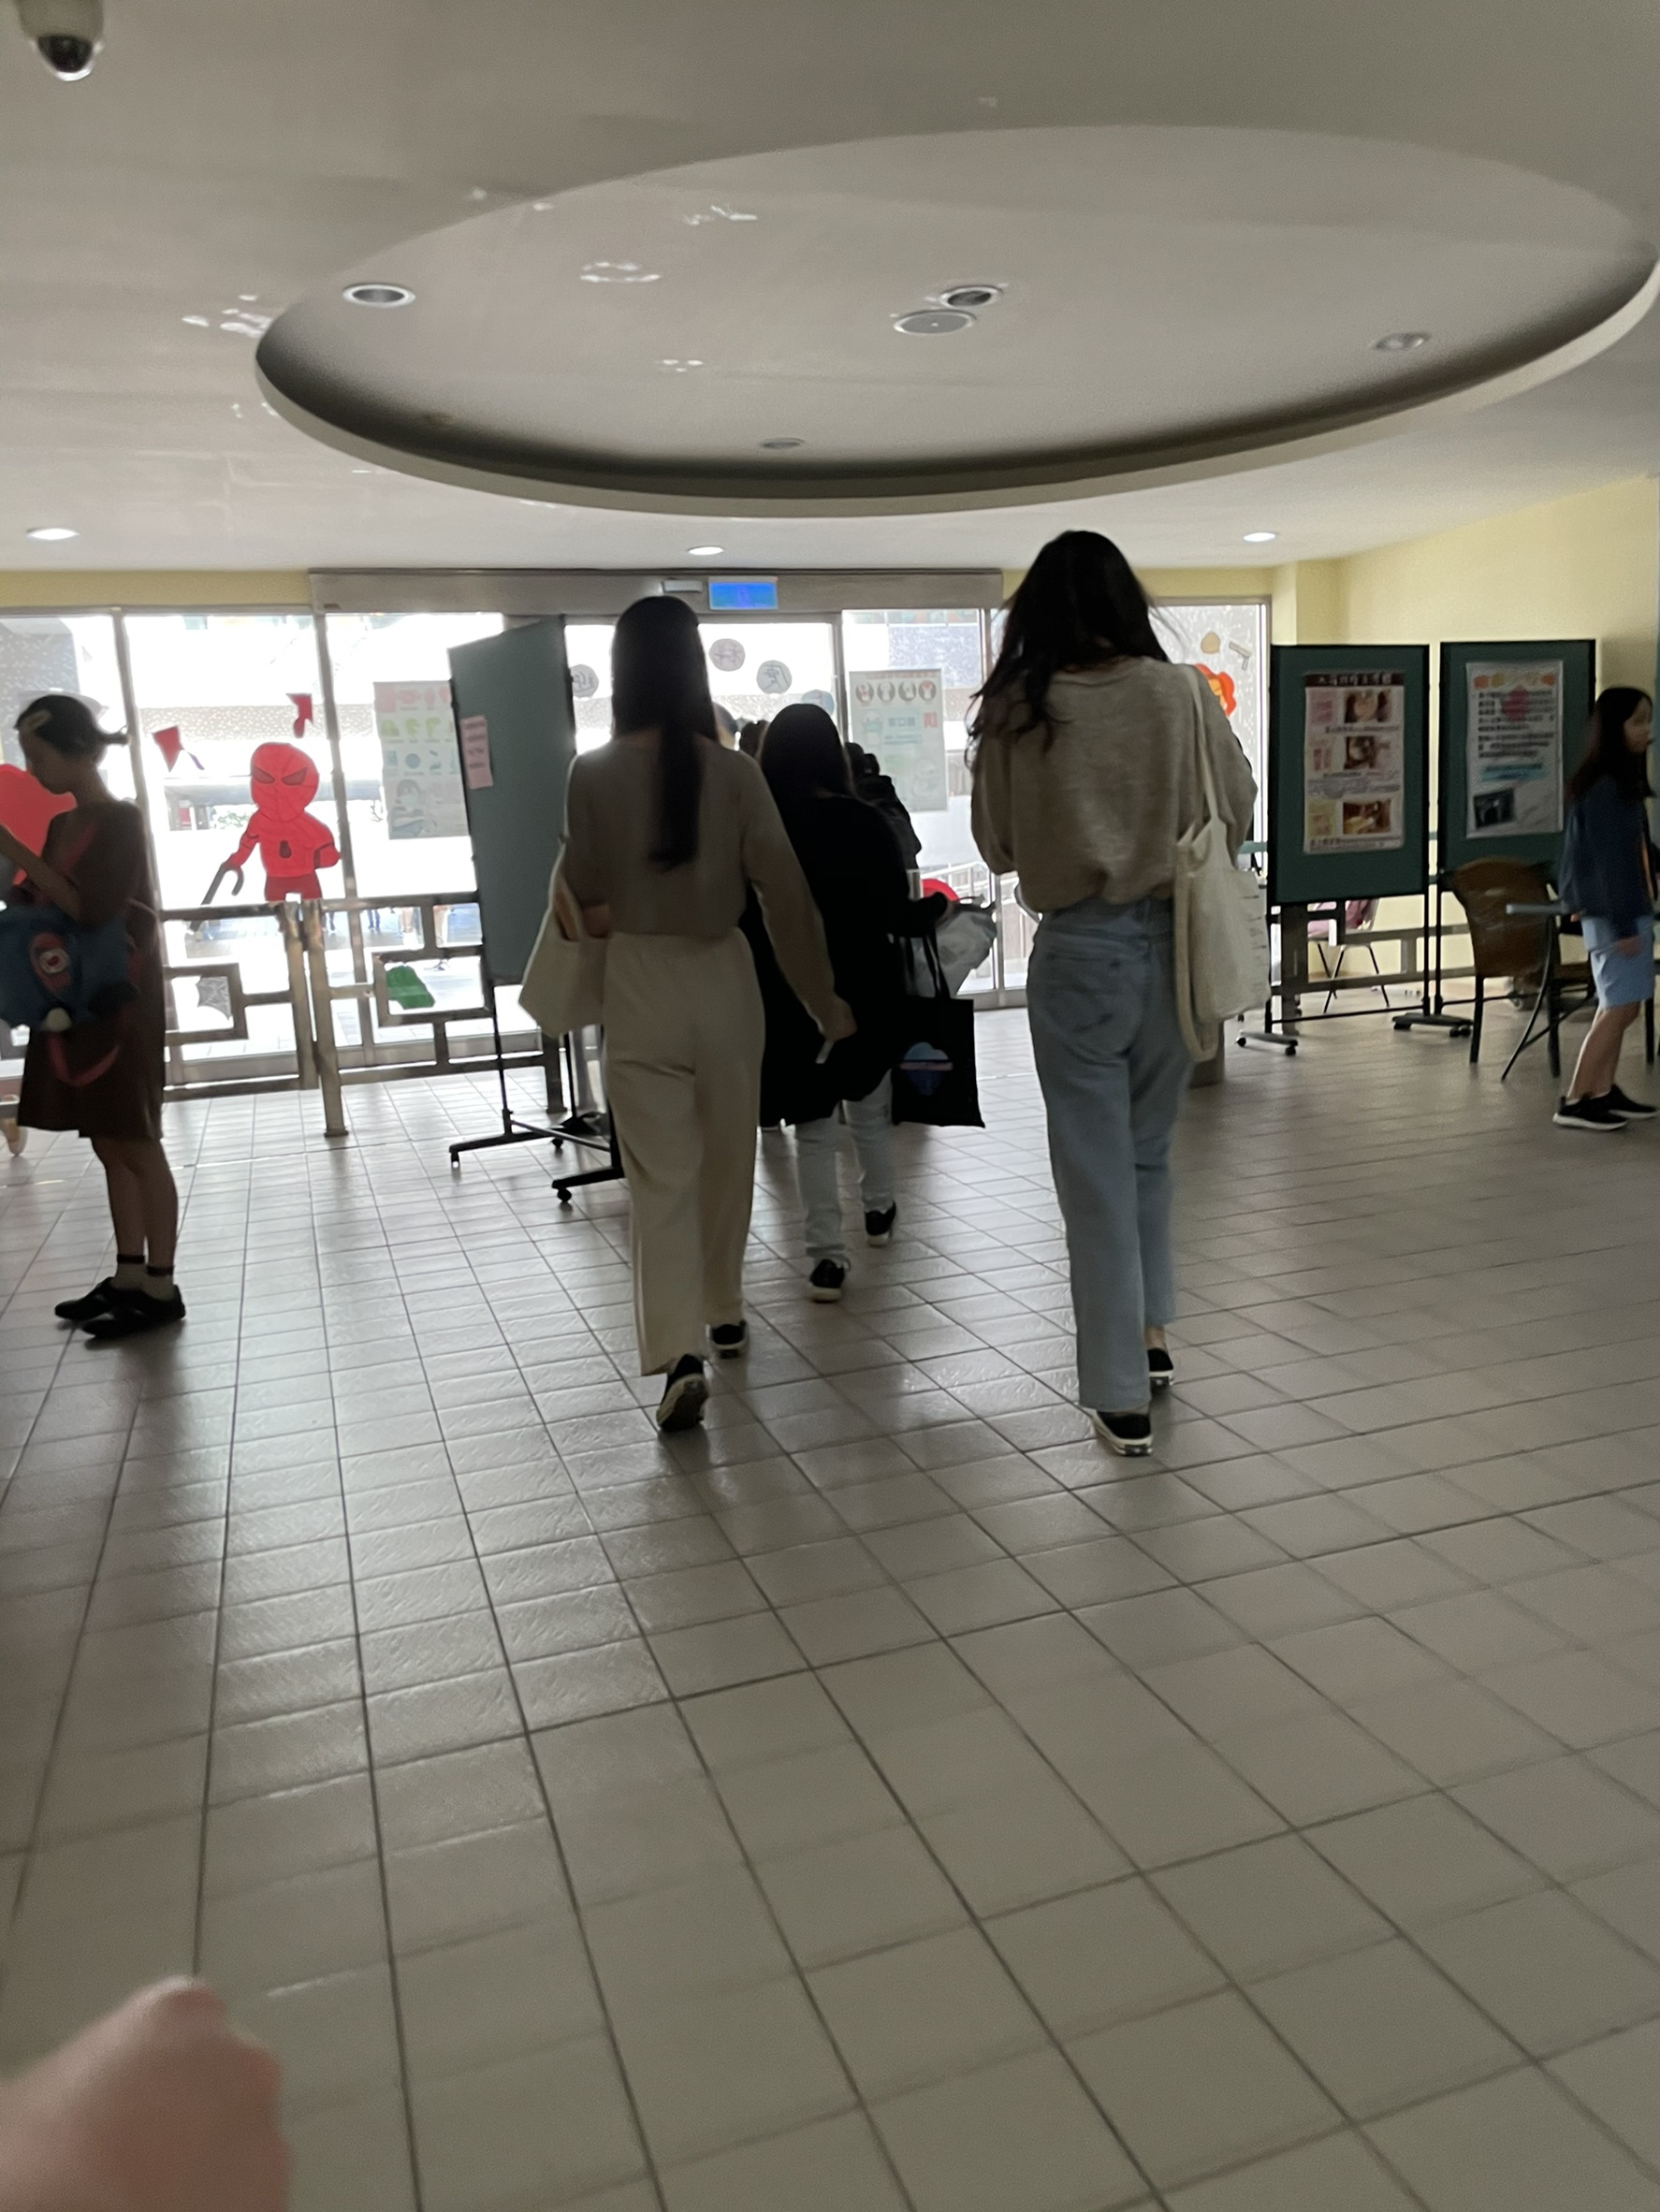people: (521, 600, 856, 1431), (968, 535, 1256, 1452), (4, 690, 187, 1348), (759, 707, 910, 1305), (1548, 686, 1660, 1132)
